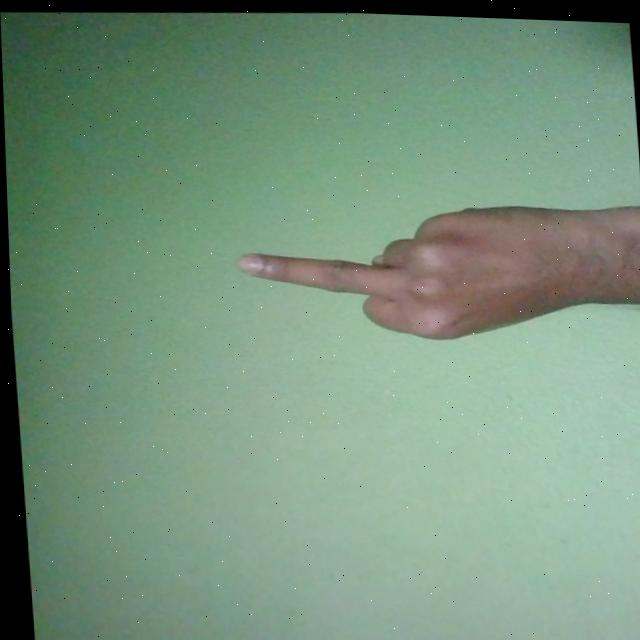Middle Finger: (227, 187, 629, 349)
